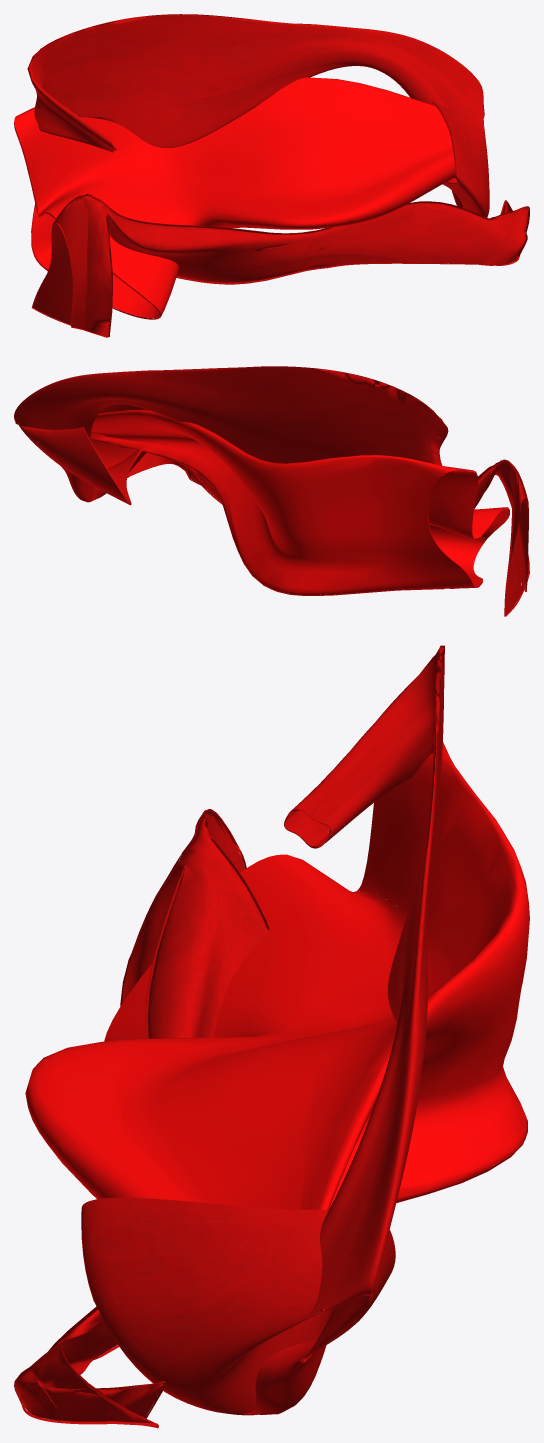
Rendered from -red-v63.glb.
3 views of the same model, one above another, from view 1: azimuth 30°, elevation 25°; view 2: azimuth 150°, elevation 25°; view 3: azimuth 270°, elevation 25° (orthographic). The views are drawn at different scales.
Parts seen in each view (by area): view 1: Merged Objects, 冬 red; view 2: 冬 red, Merged Objects; view 3: 冬 red, Merged Objects.
Boxes of the visible parts, left/top/right/bottom form: Merged Objects: left=27, top=14, right=529, bottom=337; 冬 red: left=14, top=77, right=456, bottom=319; 冬 red: left=90, top=410, right=509, bottom=595; Merged Objects: left=14, top=366, right=529, bottom=616; 冬 red: left=25, top=742, right=529, bottom=1209; Merged Objects: left=14, top=645, right=444, bottom=1428.
Size of the model in its own units: 2.94 by 1.43 by 1.47.
Materials: 2 (1 with a texture image).
